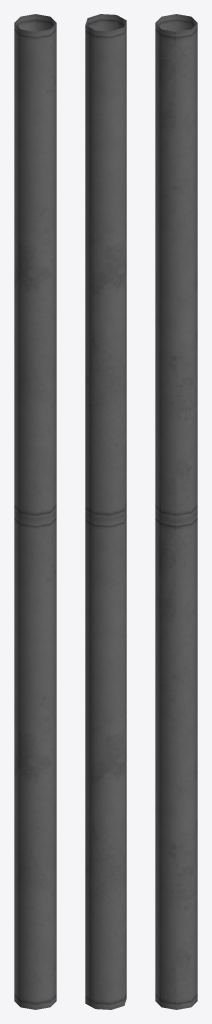
Rendered from CP_Pipe_C_4m_01.fbx.
3 views of the same model, side by side, from view 1: azimuth 90°, elevation 25°; view 2: azimuth 150°, elevation 25°; view 3: azimuth 270°, elevation 25° (orthographic).
Visible parts, largest first — view 1: CP_Pipe_C_4m_01; view 2: CP_Pipe_C_4m_01; view 3: CP_Pipe_C_4m_01.
Boxes of the visible parts, x1,y1,x2,y2 form: CP_Pipe_C_4m_01: (14, 14, 56, 1009); CP_Pipe_C_4m_01: (85, 14, 126, 1009); CP_Pipe_C_4m_01: (155, 14, 197, 1009).
Size of the model in its own units: 15.78 by 400 by 15.78.
